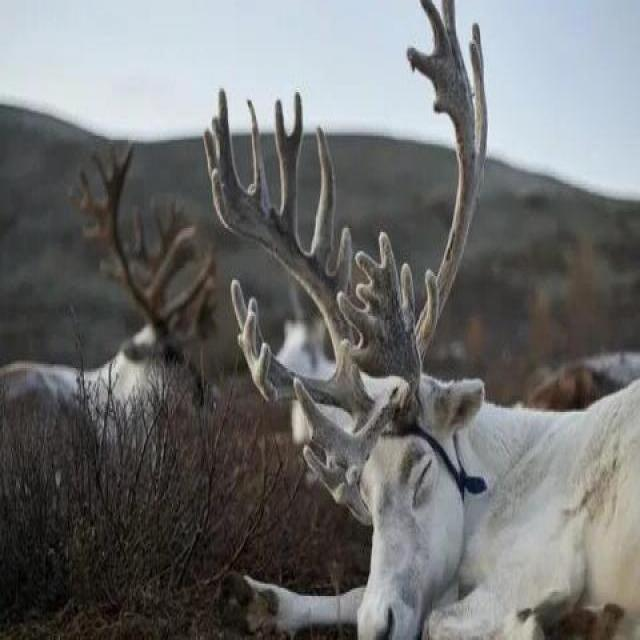deer: (215, 126, 640, 640)
